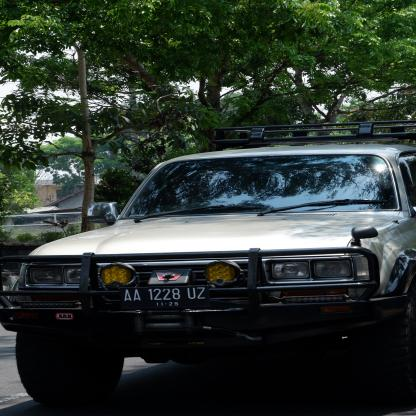Plat-Nomor: (119, 283, 214, 312)
